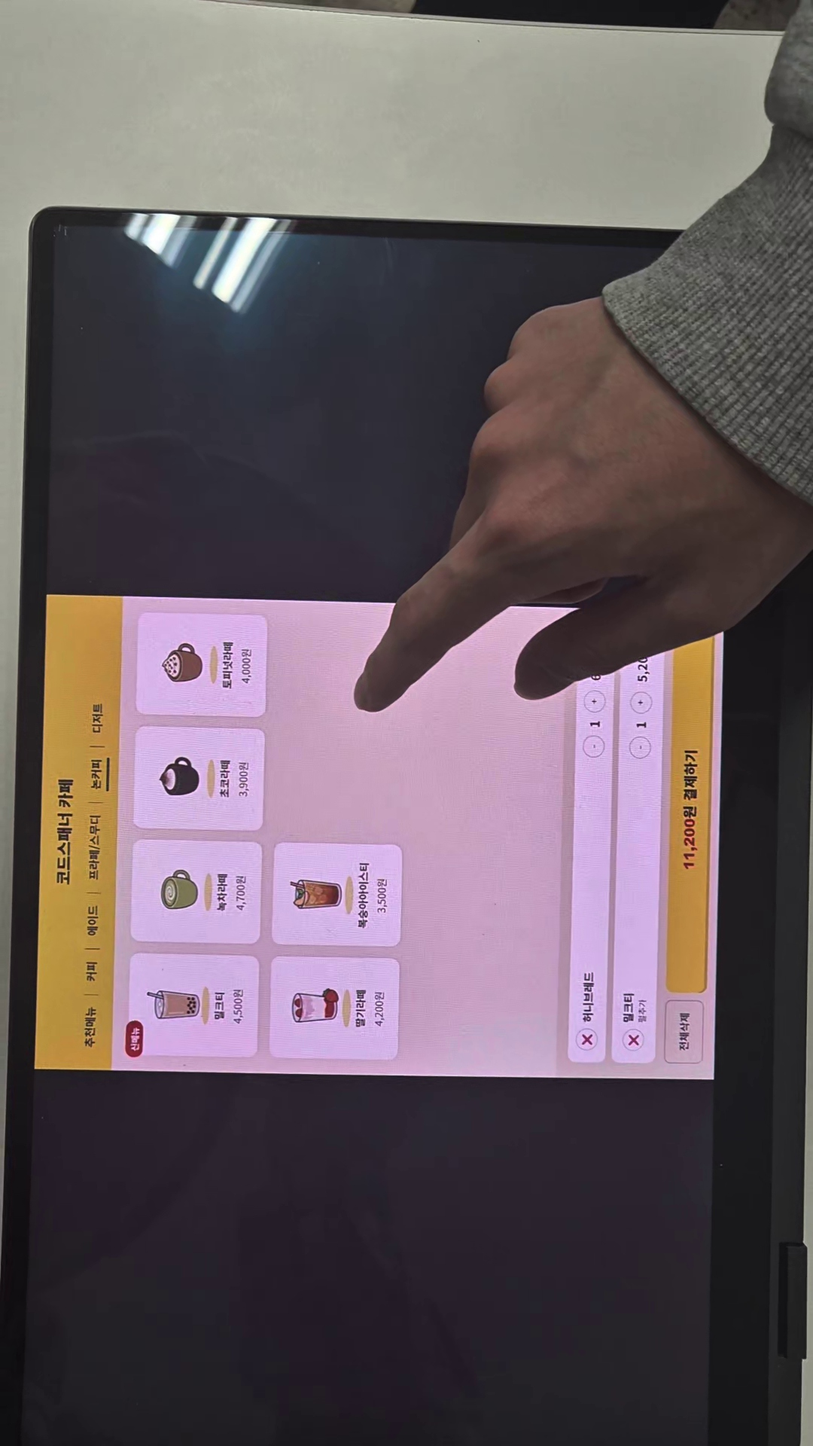action_button: (666, 619, 716, 993), (667, 998, 703, 1067)
cart_item: (616, 617, 661, 1066), (569, 621, 608, 1068)
category_tab: (85, 807, 105, 884), (80, 1004, 102, 1055), (83, 903, 103, 944), (84, 700, 106, 737), (87, 757, 104, 797), (83, 955, 100, 987)
menu_back: (274, 840, 406, 949), (126, 953, 257, 1060), (135, 612, 266, 717), (135, 724, 264, 830), (267, 957, 399, 1060), (133, 841, 261, 944)
menu_name: (356, 860, 371, 932), (221, 636, 234, 692), (354, 983, 369, 1030), (218, 754, 232, 800), (214, 872, 229, 913), (214, 988, 227, 1027)
menu_price: (235, 757, 250, 801), (237, 644, 252, 687), (375, 878, 389, 917), (373, 988, 385, 1033), (234, 873, 246, 917), (232, 985, 243, 1031)
